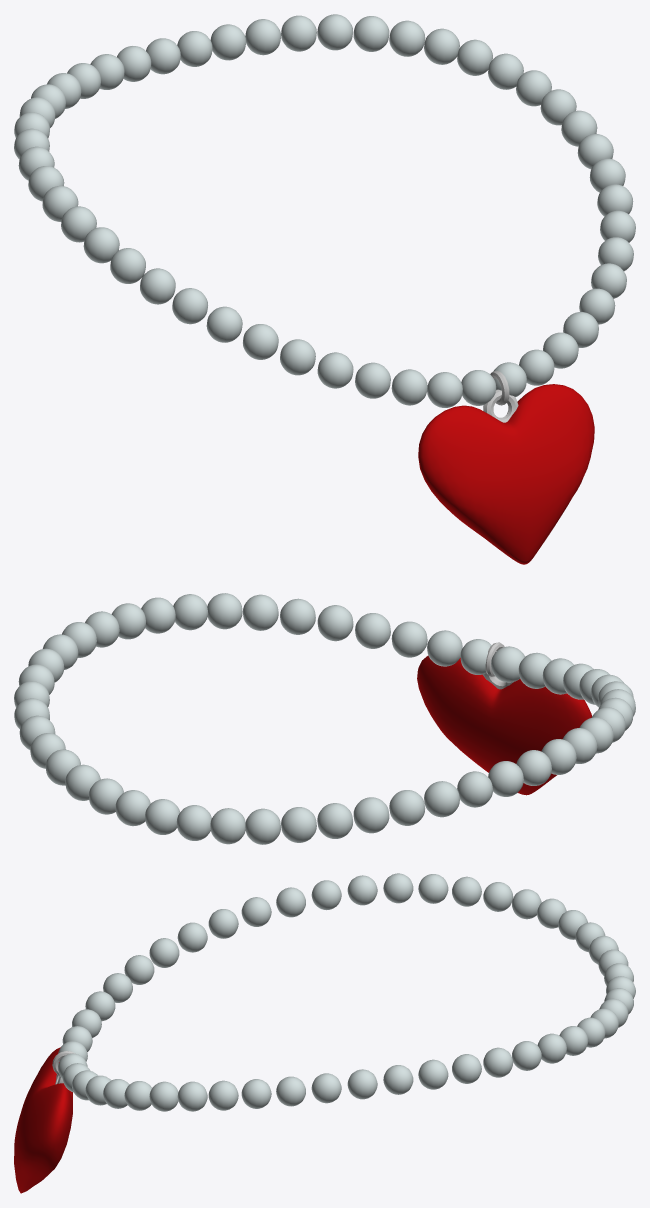
File: Heart_nk.glb
The picture shows the model from 3 angles, top to bottom: view 1: azimuth 30°, elevation 25°; view 2: azimuth 150°, elevation 25°; view 3: azimuth 270°, elevation 25°; orthographic projection. The views are drawn at different scales.
Parts seen in each view (by area): view 1: pSphere1, heart; view 2: pSphere1, heart; view 3: pSphere1, heart.
Part boxes in pixels (left/top/right/bottom): pSphere1: left=14, top=14, right=635, bottom=407; heart: left=418, top=384, right=594, bottom=564; pSphere1: left=14, top=593, right=635, bottom=844; heart: left=417, top=655, right=591, bottom=795; pSphere1: left=58, top=873, right=635, bottom=1111; heart: left=14, top=1047, right=72, bottom=1193.
Size of the model in its own units: 0.0243 by 0.0124 by 0.031.
